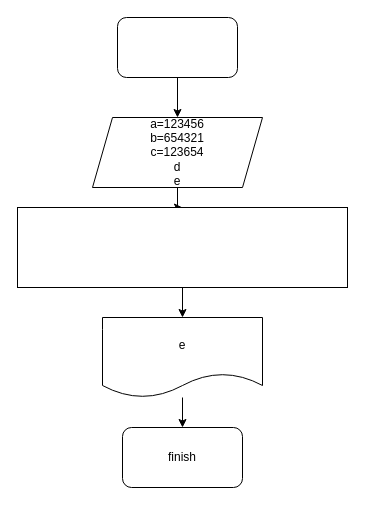
The diagram is 365 pixels wide and 505 high, and some of its shapes have lost their labels. The centre of each missing label's shape, as x and y in pixels:
d=a*10/100+b*10/100+c*10/100 e=d*10/100: the point at 182,247
programm: the point at 177,47
